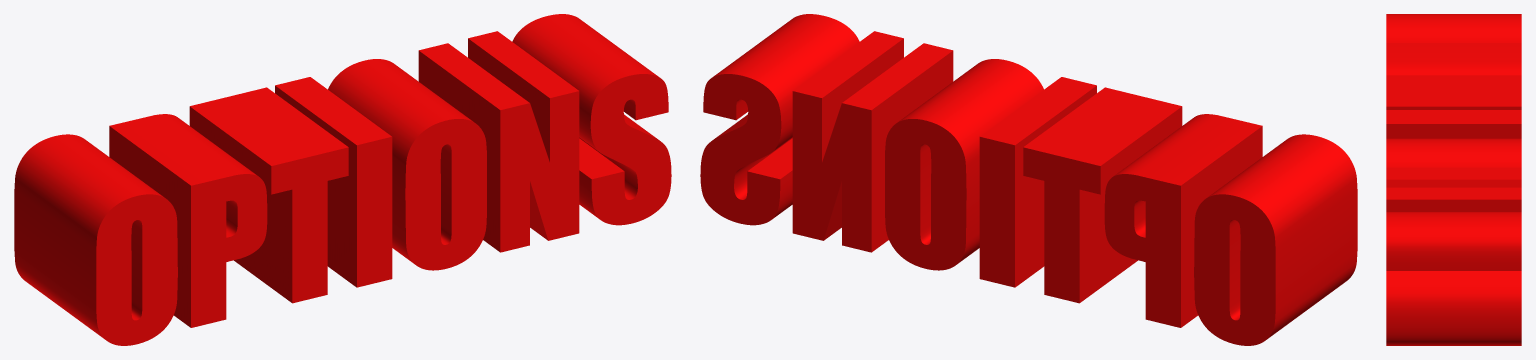
File: OPTIONS.dae
3 renders of one model, left to right at view 1: azimuth 30°, elevation 25°; view 2: azimuth 150°, elevation 25°; view 3: azimuth 270°, elevation 25°, orthographic. The views are drawn at different scales.
Visible parts, largest first — view 1: OPTIONS; view 2: OPTIONS; view 3: OPTIONS.
Boxes of the visible parts, left/top/right/bottom form: OPTIONS: left=14, top=14, right=671, bottom=345; OPTIONS: left=700, top=14, right=1357, bottom=345; OPTIONS: left=1386, top=14, right=1521, bottom=345.
Size of the model in its own units: 33.42 by 8.24 by 8.24.
